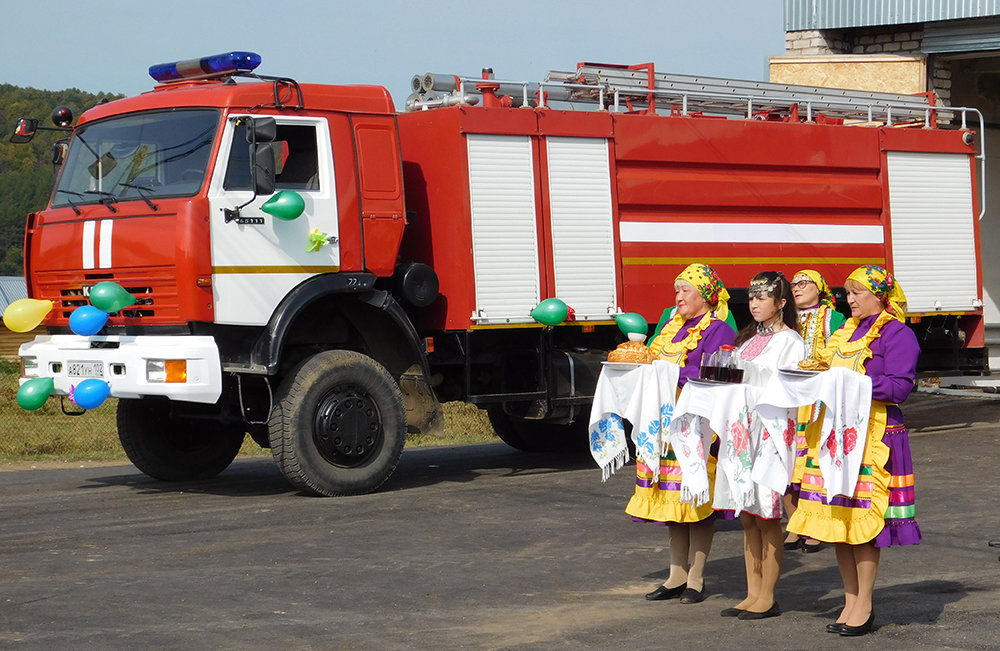special: (18, 44, 997, 498)
